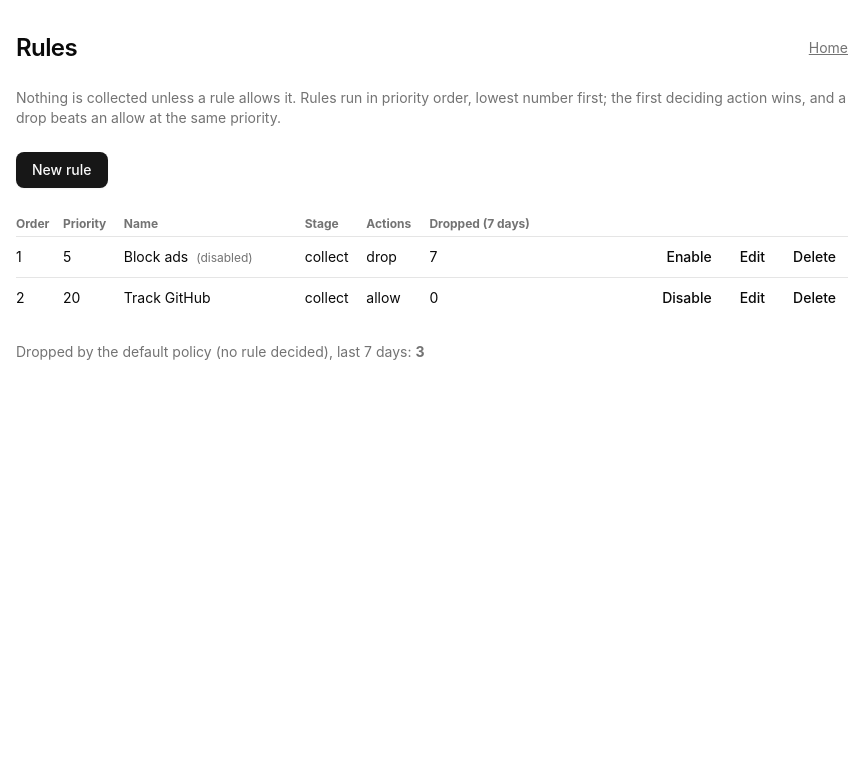
Test: rules page › tests the draft against a sample event, replacing the rule being edited
The width and height of the screenshot is (865, 768).
Click the button with aria-label "Edit Track GitHub": (752, 298) [728,282,777,314]
(page scrolled)
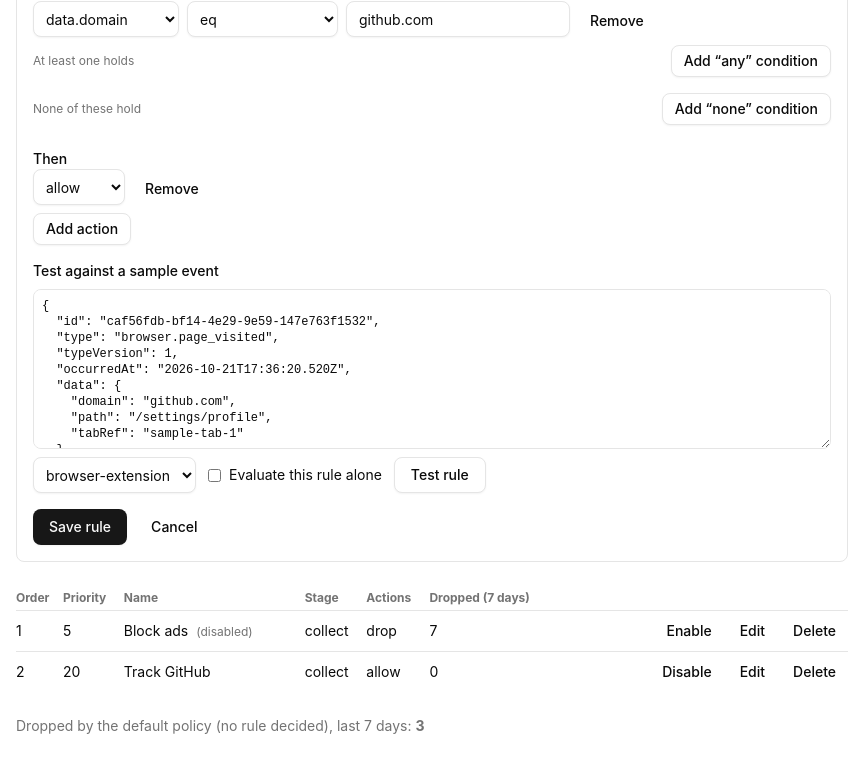
Click the button "Test rule": (440, 475) [394,457,486,493]
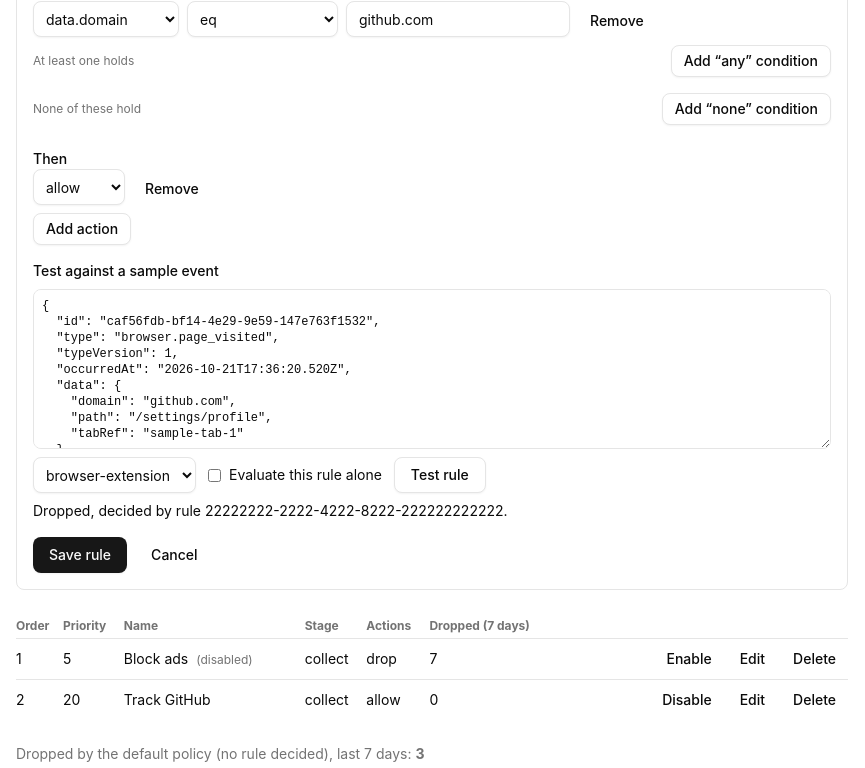
Check: the message shows "Dropped, decided by rule", box [33,502,508,519]
